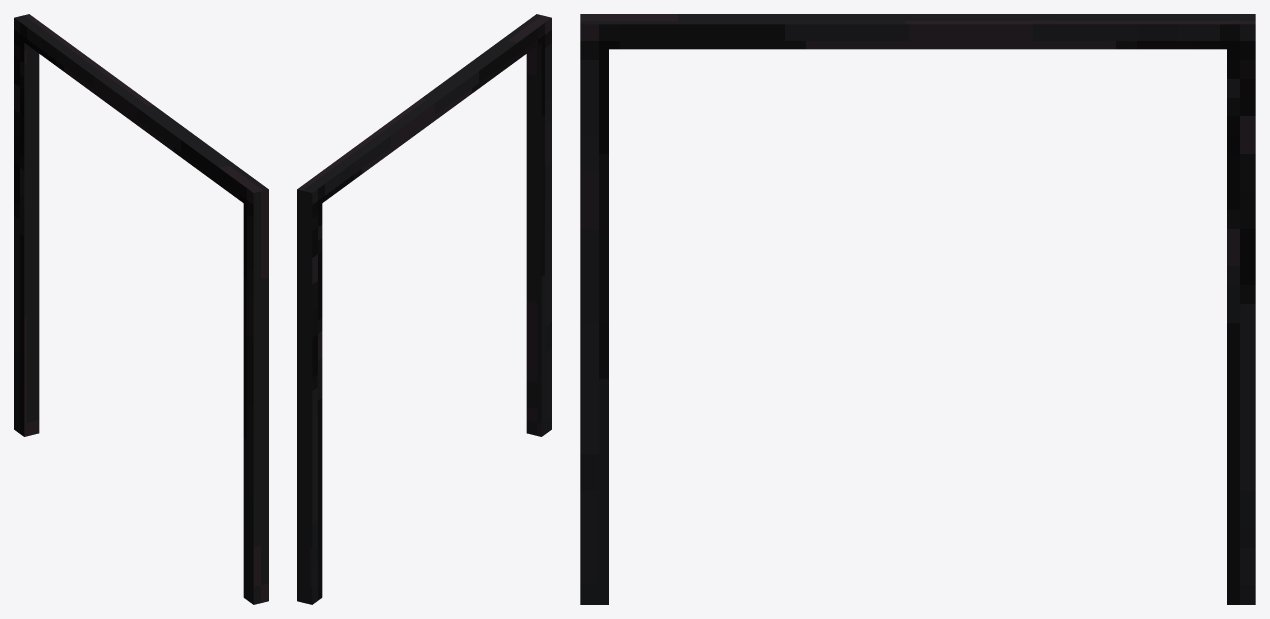
File: DoorFrame.2.fbx
The picture shows the model from 3 angles, left to right: view 1: azimuth 30°, elevation 25°; view 2: azimuth 150°, elevation 25°; view 3: azimuth 270°, elevation 25°; orthographic projection. The views are drawn at different scales.
Visible parts, largest first — view 1: Door Frame.02; view 2: Door Frame.02; view 3: Door Frame.02.
Part boxes in pixels (bbox=[...]): Door Frame.02: bbox=[14, 14, 268, 604]; Door Frame.02: bbox=[297, 14, 551, 604]; Door Frame.02: bbox=[580, 14, 1255, 604].
Bounding box in the file's own units: 17.74 × 460 × 485.
Materials: 1 (1 with a texture image).
